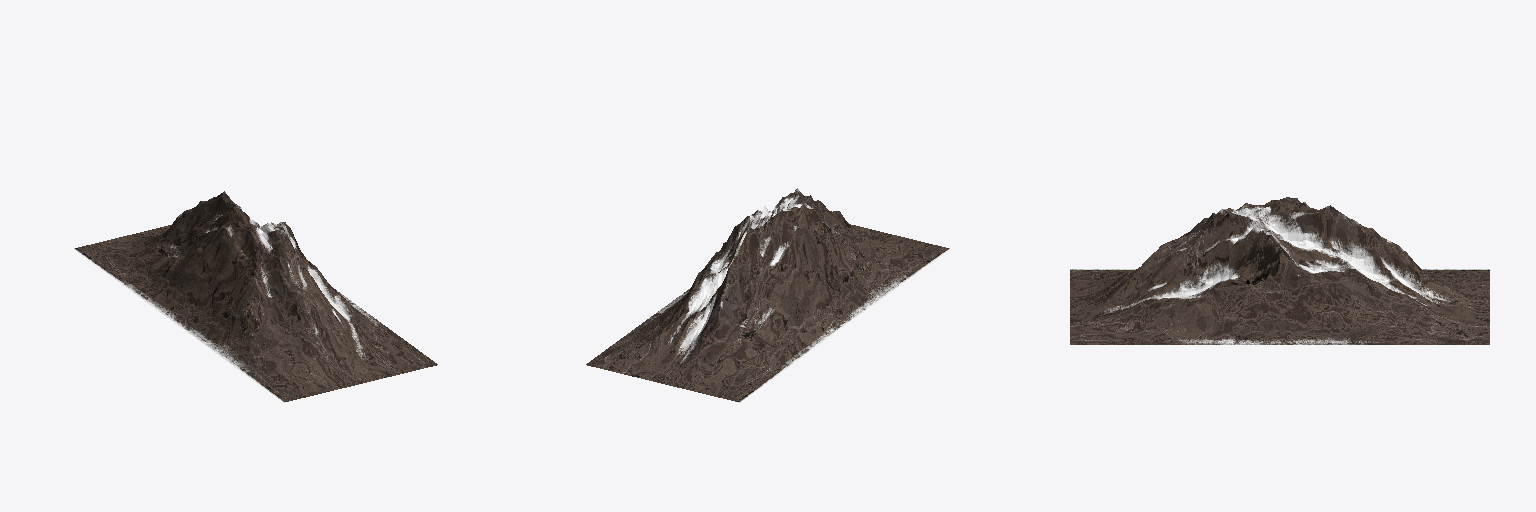
The picture shows the model from 3 angles: view 1: azimuth 30°, elevation 25°; view 2: azimuth 150°, elevation 25°; view 3: azimuth 270°, elevation 25°; orthographic projection.
Parts seen in each view (by area): view 1: obj1; view 2: obj1; view 3: obj1.
Boxes of the visible parts, <box> form: obj1: <box>74,191,437,402</box>; obj1: <box>586,188,949,402</box>; obj1: <box>1070,197,1489,344</box>.
Bounding box in the file's own units: 600 × 376 × 1411.
Materials: 1 (1 with a texture image).